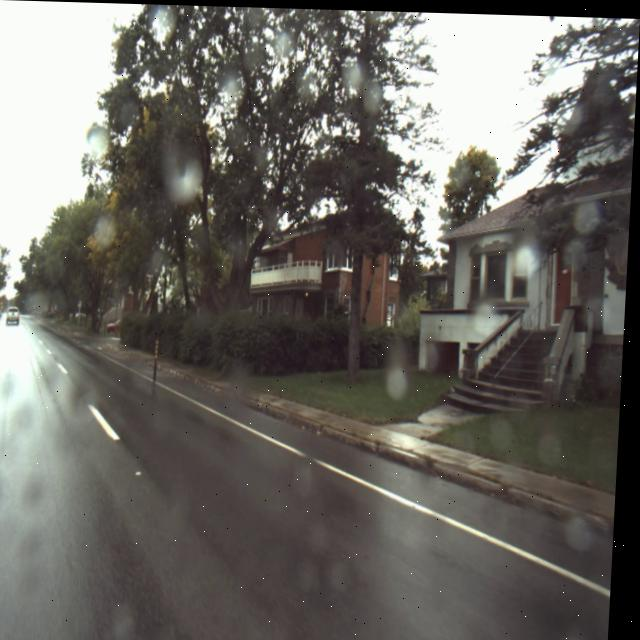car: (9, 306, 24, 325)
